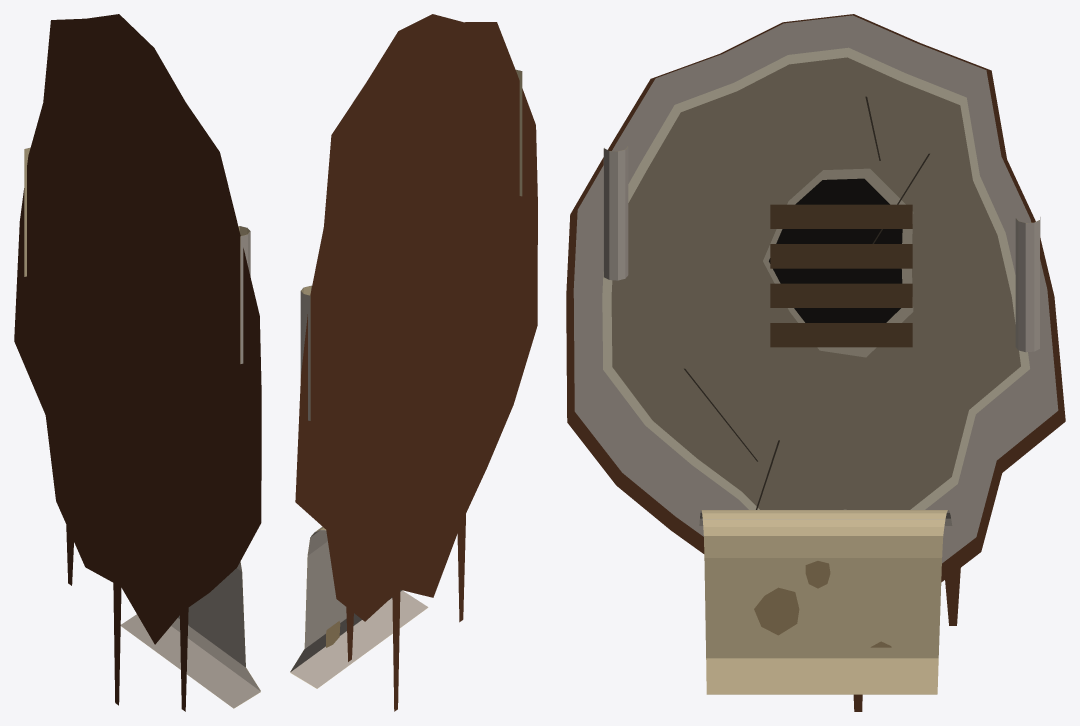
File: wallpaper_peel.glb
3 views of the same model, side by side, from view 1: azimuth 30°, elevation 25°; view 2: azimuth 150°, elevation 25°; view 3: azimuth 270°, elevation 25° (orthographic). The views are drawn at different scales.
Visible parts, largest first — view 1: tapete; view 2: tapete; view 3: tapete.
Part boxes in pixels (left/top/right/bottom): tapete: left=14, top=14, right=261, bottom=711; tapete: left=290, top=14, right=537, bottom=711; tapete: left=566, top=14, right=1065, bottom=711.
Bounding box in the file's own units: 0.1057 × 0.9744 × 0.6321.
